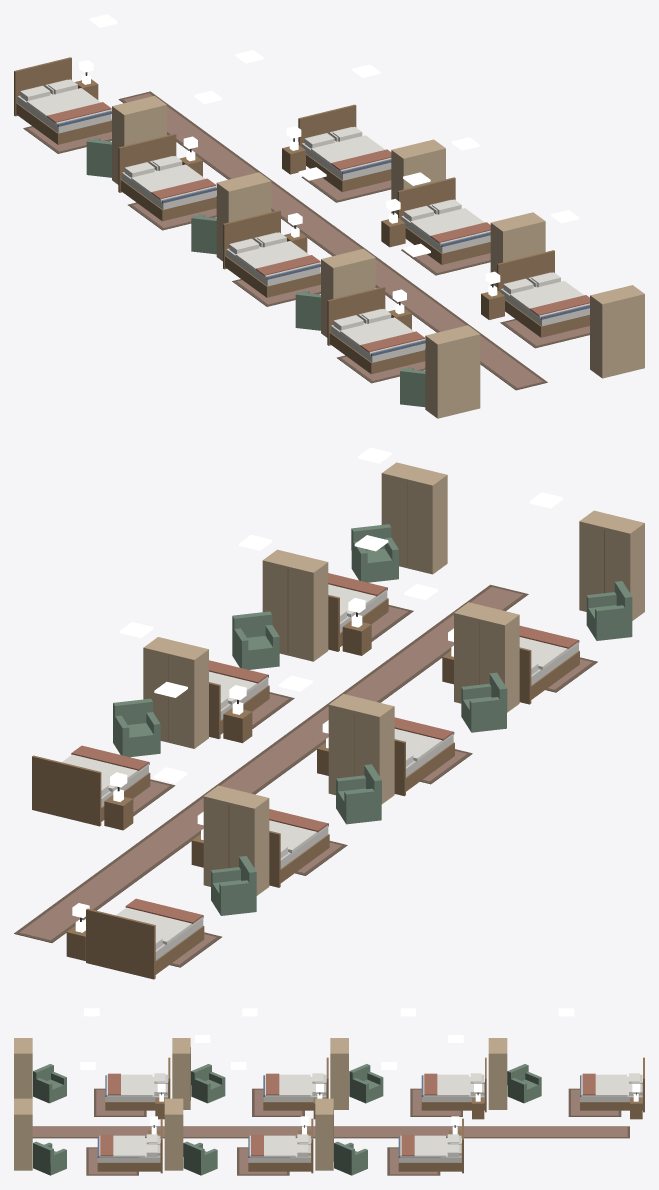
The model's file is fine-s2.glb.
The picture shows the model from 3 angles, top to bottom: view 1: azimuth 30°, elevation 25°; view 2: azimuth 150°, elevation 25°; view 3: azimuth 270°, elevation 25°; orthographic projection. The views are drawn at different scales.
Parts seen in each view (by area): view 1: soft-s2, dresser.013, dresser.009, bed-frame.011, bed-frame.013, bed-frame.010, bed-frame.012, bed-frame.009, bed-frame.007, bed-frame.008, dresser.011, dresser.010 (+10 smaller); view 2: soft-s2, dresser.008, dresser.009, dresser.007, dresser.010, dresser.011, dresser.012, dresser.013, bed-frame.010, bed-frame.007, lounge-chair.008, lounge-chair.007 (+13 smaller); view 3: soft-s2, dresser.008, dresser.010, dresser.007, dresser.009, dresser.011, bed-frame.009, dresser.012, bed-frame.008, bed-frame.007, dresser.013, lounge-chair.010 (+12 smaller).
Part boxes in pixels (<box>): soft-s2: <box>20,60,589,390</box>; dresser.013: <box>425,325,480,418</box>; dresser.009: <box>590,285,644,378</box>; bed-frame.011: <box>118,133,216,221</box>; bed-frame.013: <box>327,286,425,374</box>; bed-frame.010: <box>14,57,111,144</box>; bed-frame.012: <box>223,210,320,297</box>; bed-frame.009: <box>497,250,589,337</box>; bed-frame.007: <box>298,104,391,192</box>; bed-frame.008: <box>397,177,490,264</box>; dresser.011: <box>216,172,271,261</box>; dresser.010: <box>112,96,166,184</box>; soft-s2: <box>14,573,597,967</box>; dresser.008: <box>262,549,328,661</box>; dresser.009: <box>381,462,447,574</box>; dresser.007: <box>143,637,208,748</box>; dresser.010: <box>203,785,269,895</box>; dresser.011: <box>328,694,394,804</box>; dresser.012: <box>454,602,519,712</box>; dresser.013: <box>579,510,644,620</box>; bed-frame.010: <box>86,908,204,979</box>; bed-frame.007: <box>32,755,150,826</box>; lounge-chair.008: <box>232,611,279,669</box>; lounge-chair.007: <box>113,698,160,757</box>; soft-s2: <box>32,1073,641,1175</box>; dresser.008: <box>164,1098,183,1170</box>; dresser.010: <box>488,1038,507,1109</box>; dresser.007: <box>315,1098,333,1170</box>; dresser.009: <box>14,1098,32,1170</box>; dresser.011: <box>330,1038,348,1109</box>; bed-frame.009: <box>97,1118,162,1173</box>; dresser.012: <box>172,1038,190,1109</box>; bed-frame.008: <box>248,1118,313,1173</box>; bed-frame.007: <box>398,1118,463,1173</box>; dresser.013: <box>14,1038,32,1098</box>; lounge-chair.010: <box>507,1064,541,1103</box>.
Bounding box in the file's own units: 6.61 × 3.35 × 20.35.
